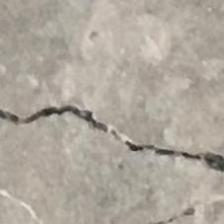Crack: (0, 102, 224, 176)
